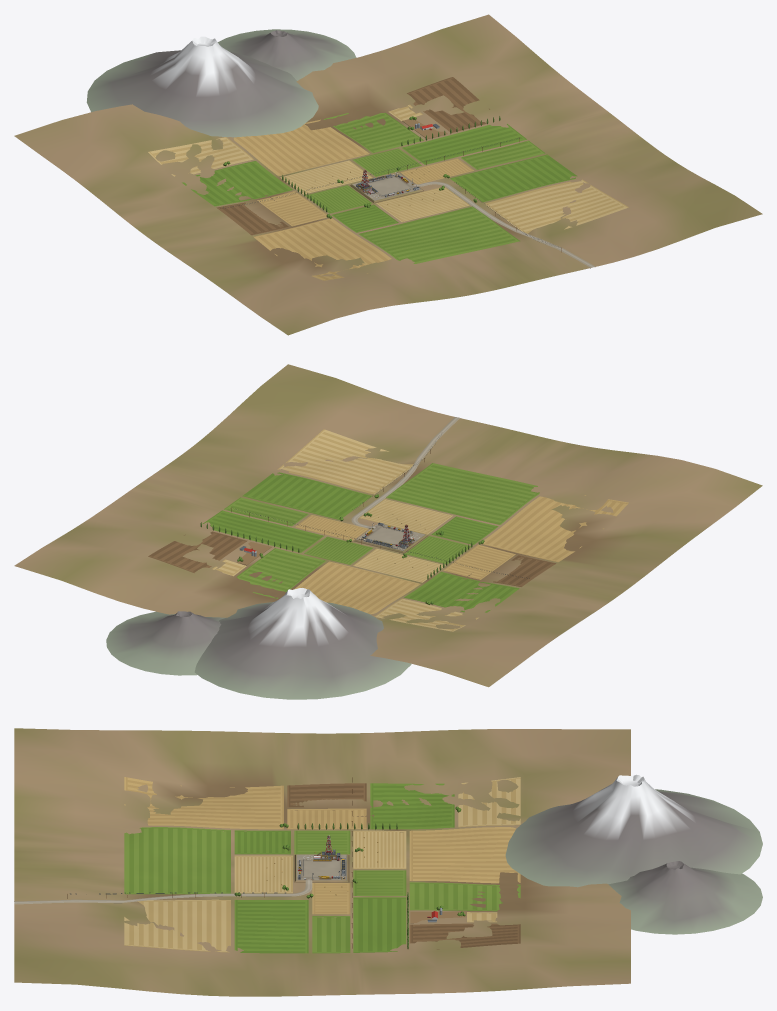
The picture shows the model from 3 angles, top to bottom: view 1: azimuth 30°, elevation 25°; view 2: azimuth 150°, elevation 25°; view 3: azimuth 270°, elevation 25°; orthographic projection. The views are drawn at different scales.
Parts seen in each view (by area): view 1: onshore_terrain, platform_base; view 2: onshore_terrain, platform_base; view 3: onshore_terrain, platform_base.
Boxes of the visible parts, x1,y1,x2,y2 form: onshore_terrain: (14,14,762,335); platform_base: (349,170,423,203); onshore_terrain: (14,364,762,699); platform_base: (353,522,428,553); onshore_terrain: (14,728,762,996); platform_base: (294,835,349,882).
Size of the model in its own units: 140 by 16.95 by 170.
